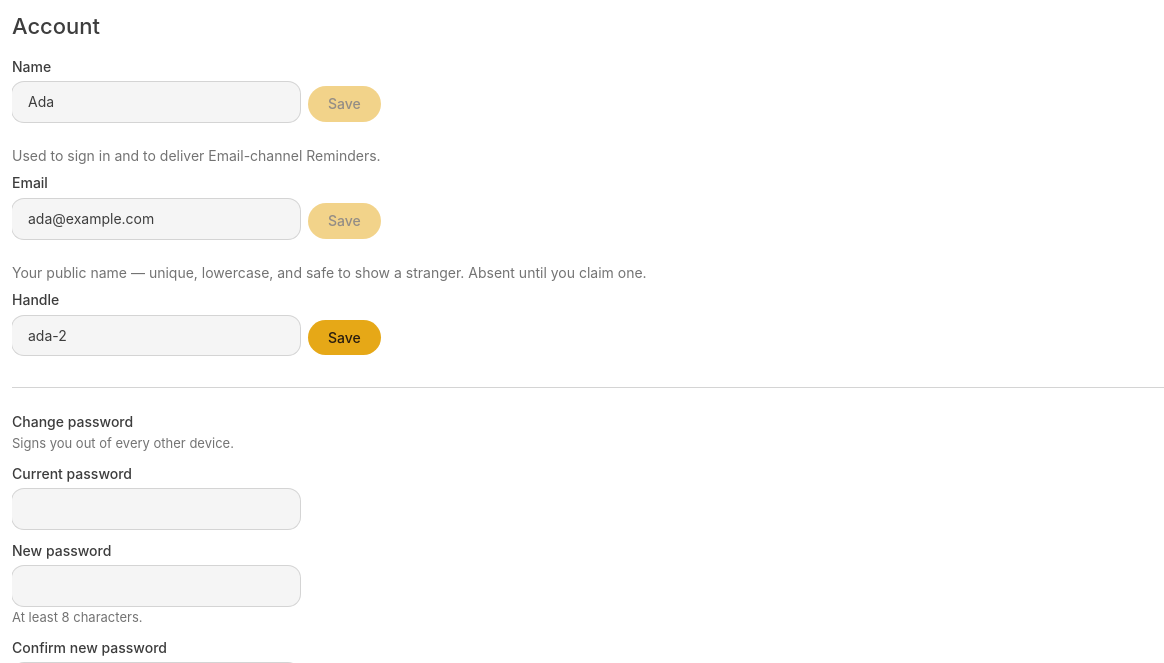
Test: AccountSection — re-syncs from a save that touched a different field (#245 reopened) › re-syncs the Email field, and re-disables its Save, after a Name-only save changes the store's email
Check: the field labelled "Email" holds "ada@example.com", box [12, 199, 300, 239]
Check: the 2nd button "Save" is disabled, box [308, 203, 381, 239]
Replace the text in the field labelled "Name" with "New Name" at (156, 102), box [12, 82, 300, 122]
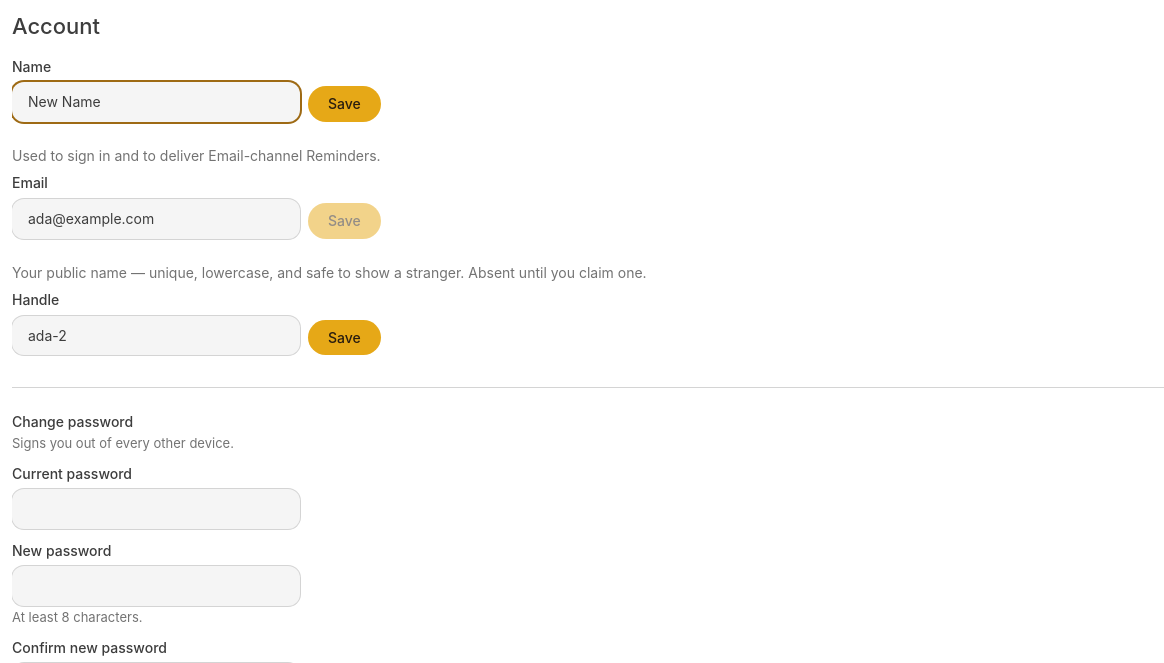
Click the 1st button "Save" at (344, 104), box [308, 86, 381, 122]
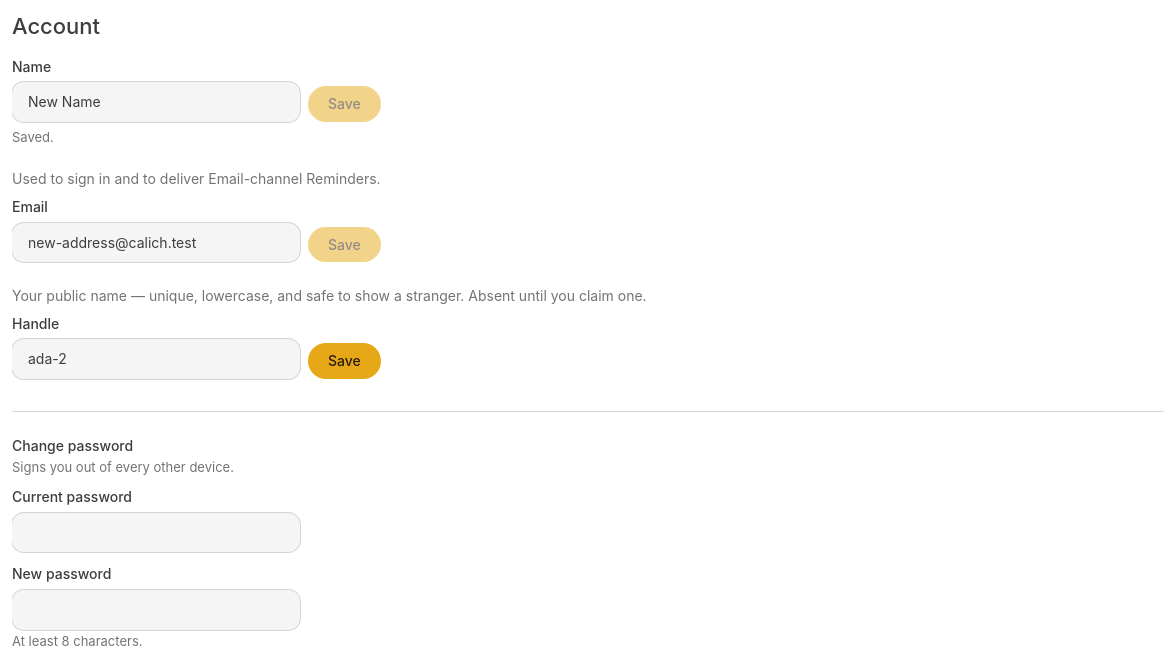
Check: the 2nd button "Save" is disabled, box [308, 227, 381, 262]
Check: the field labelled "Email" holds "new-address@calich.test", box [12, 223, 300, 262]
